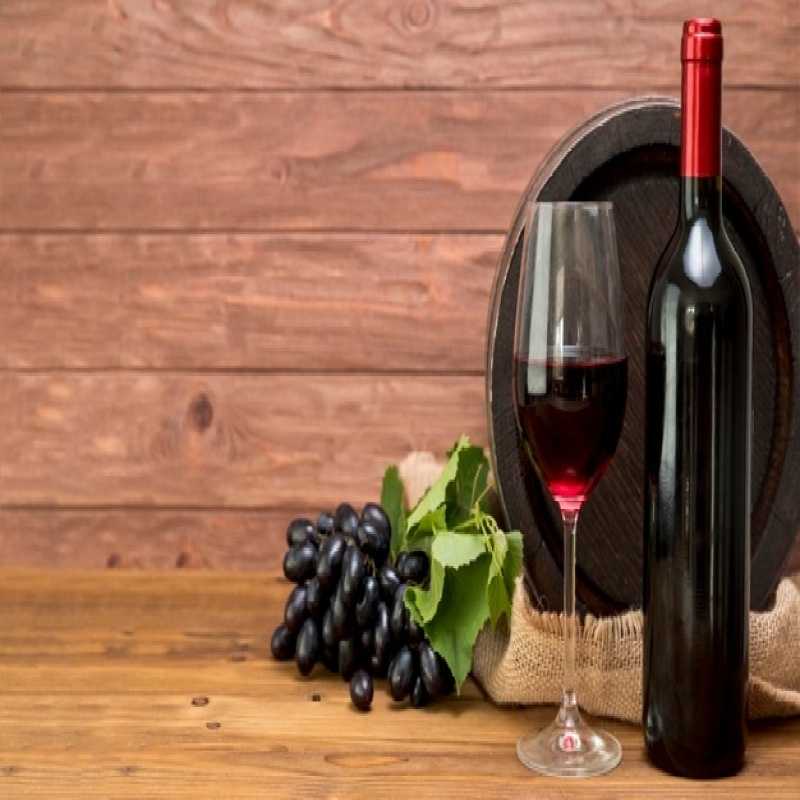wine: (637, 24, 754, 775)
